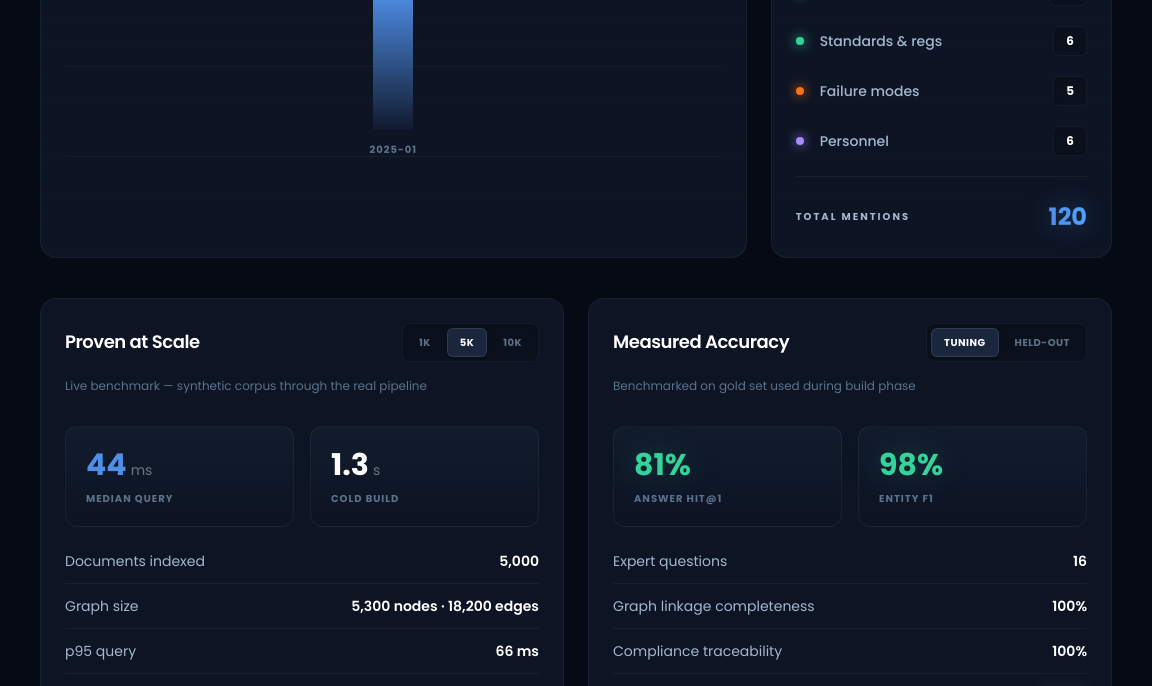
Test: Dashboard page › EvalCard toggles between tuning and held-out figures
(page scrolled)
expect the text "81%" is shown: met, box left=634, top=444, right=691, bottom=486
Click the button "Held-out" at coordinates (1042, 342), box left=1003, top=328, right=1082, bottom=357
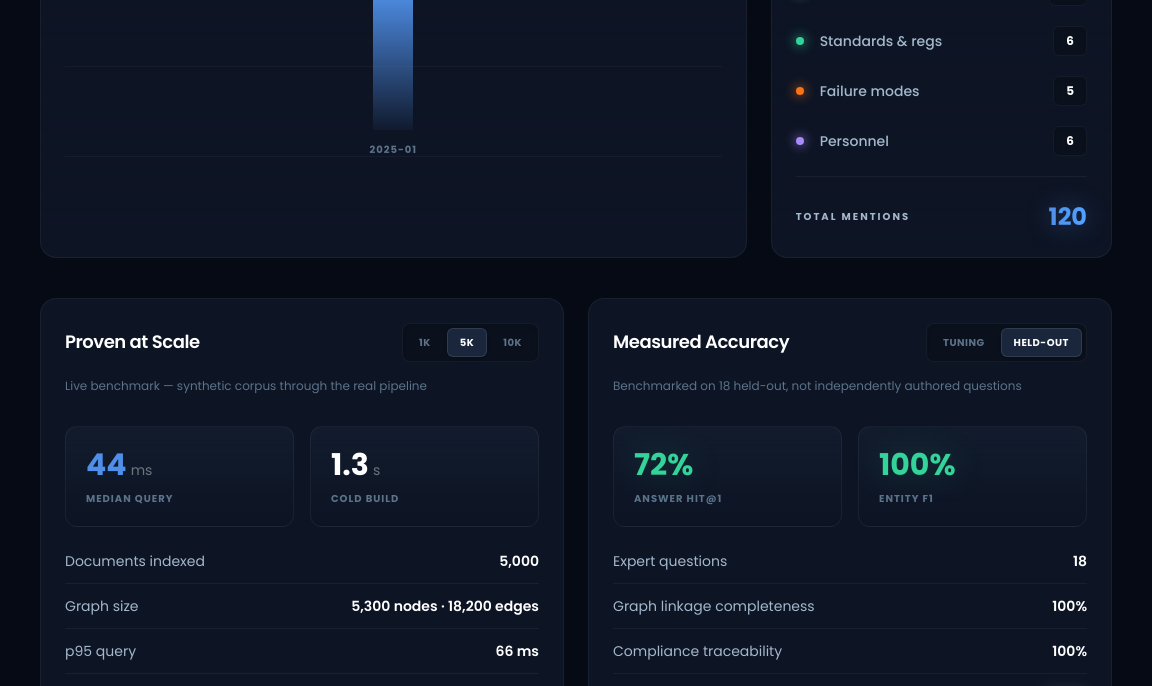
expect the text "72%" is shown: met, box left=634, top=444, right=693, bottom=486
expect the text "held-out, not independently authored" is shown: met, box left=613, top=377, right=1022, bottom=394
